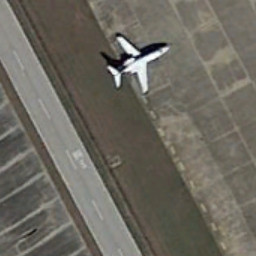Airplane: (101, 25, 179, 96)
